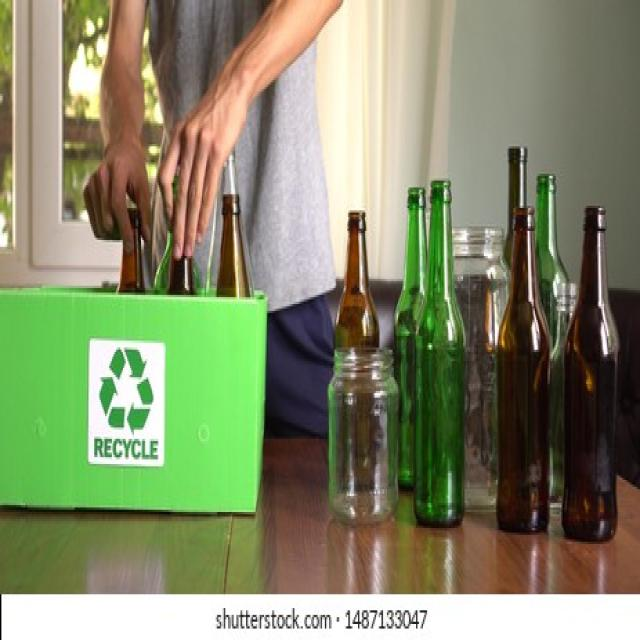glass: (486, 194, 624, 544), (408, 180, 468, 532), (319, 338, 406, 519)
